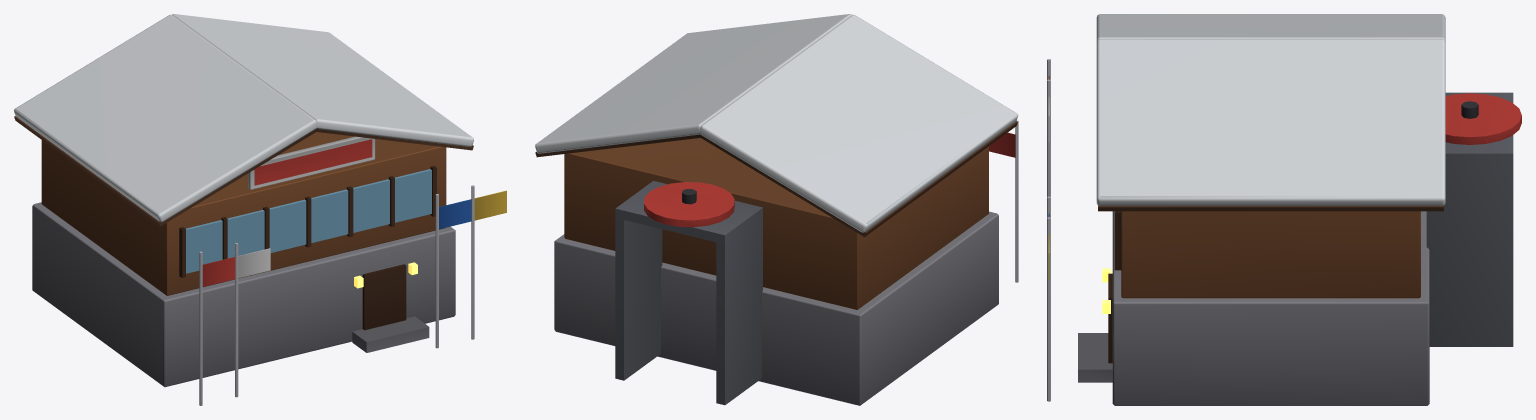
Rendered from prop.glacier_station.glb.
3 views of the same model, side by side, from view 1: azimuth 30°, elevation 25°; view 2: azimuth 150°, elevation 25°; view 3: azimuth 270°, elevation 25° (orthographic). The views are drawn at different scales.
Parts seen in each view (by area): view 1: glacier_station; view 2: glacier_station; view 3: glacier_station.
Part boxes in pixels (x1,y1,x2,y2): glacier_station: (14, 14, 506, 405); glacier_station: (535, 14, 1018, 405); glacier_station: (1047, 14, 1521, 405).
Bounding box in the file's own units: 15.68 × 10.84 × 16.47.
